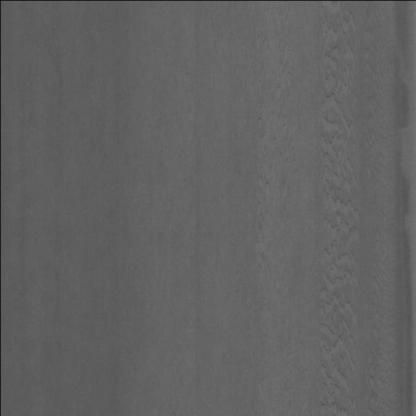silk_spot: (309, 23, 368, 378)
